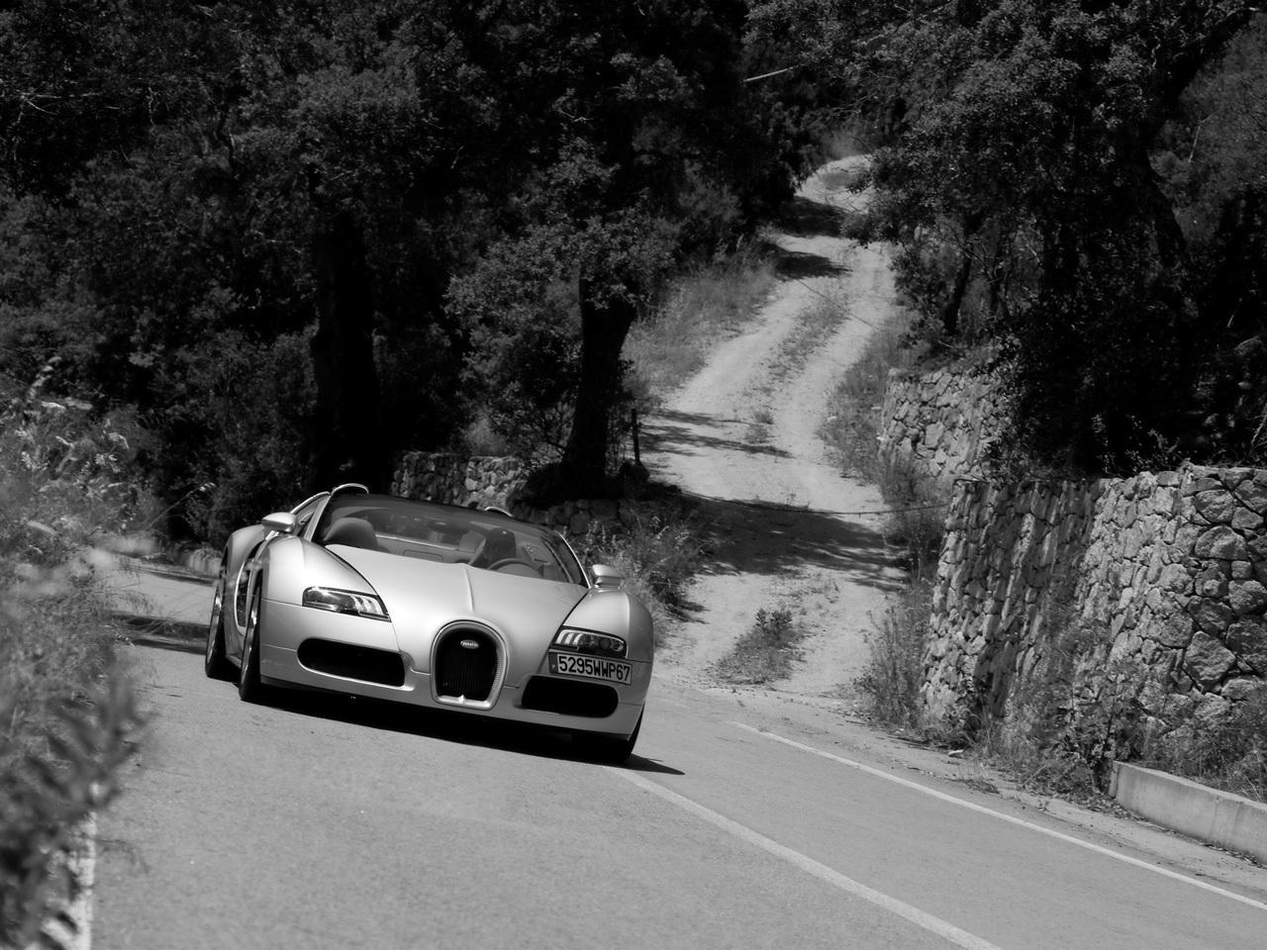car: (203, 488, 656, 759)
